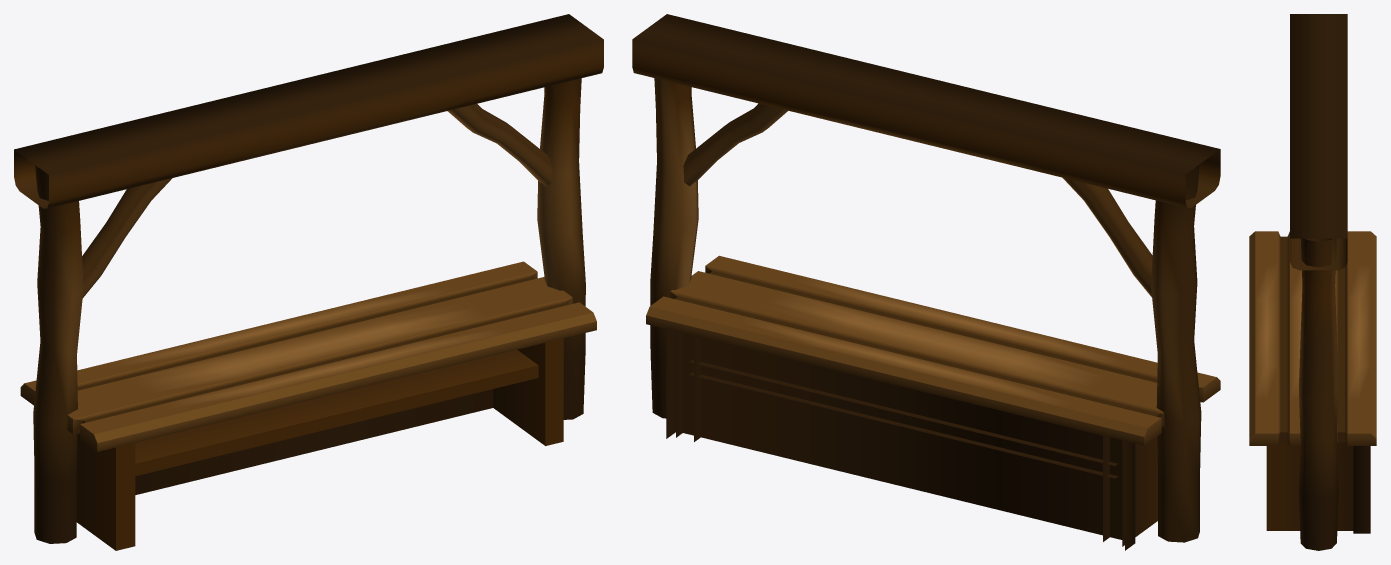
The model's file is H&J_Barra.fbx.
The picture shows the model from 3 angles, left to right: view 1: azimuth 30°, elevation 25°; view 2: azimuth 150°, elevation 25°; view 3: azimuth 270°, elevation 25°; orthographic projection. The views are drawn at different scales.
Parts seen in each view (by area): view 1: BarraMostrador; view 2: BarraMostrador; view 3: BarraMostrador.
Part boxes in pixels (x1,y1,x2,y2): BarraMostrador: [14, 14, 603, 550]; BarraMostrador: [632, 14, 1220, 550]; BarraMostrador: [1249, 14, 1376, 550].
Bounding box in the file's own units: 460 × 300 × 110.
